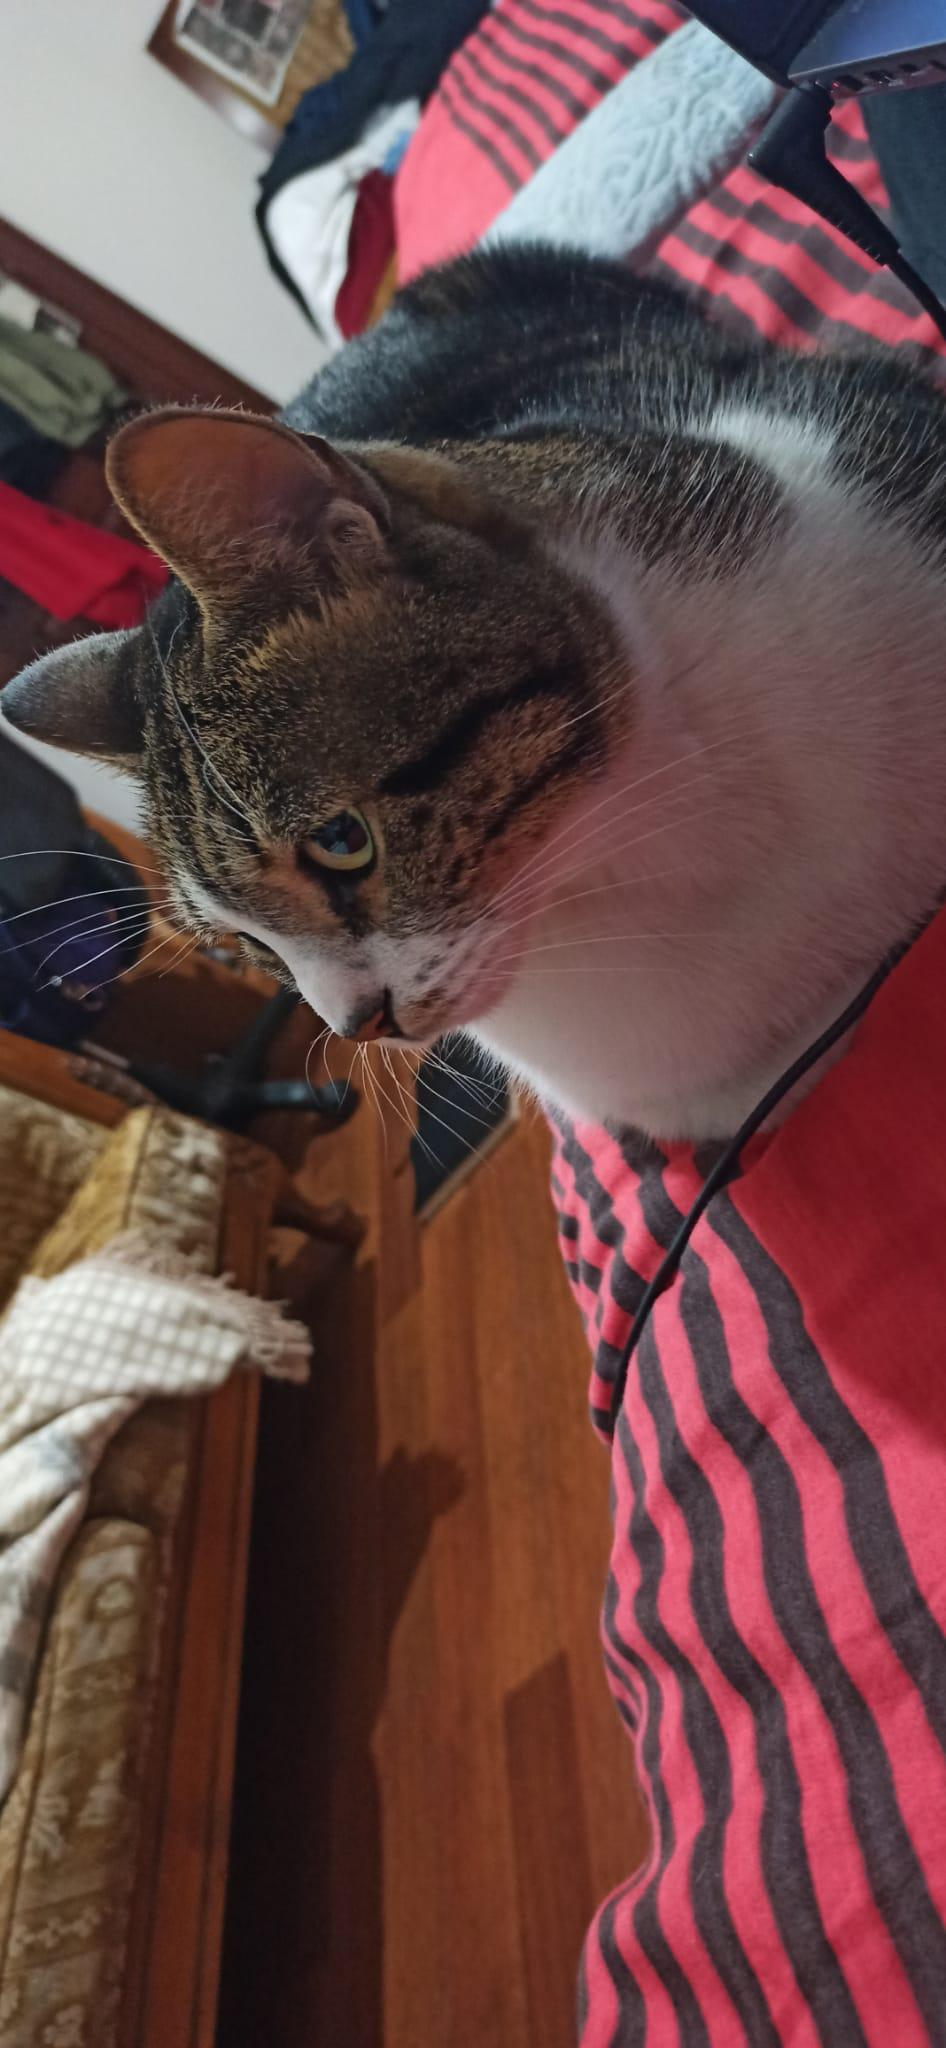kedo: (0, 244, 946, 1127)
